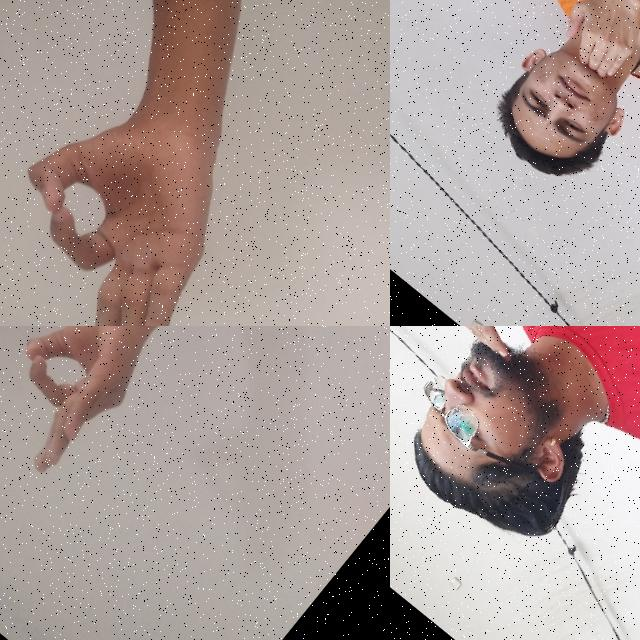Chin Flick: (390, 326, 640, 570), (459, 0, 640, 211)
Okay: (0, 37, 302, 326), (0, 326, 196, 494)
